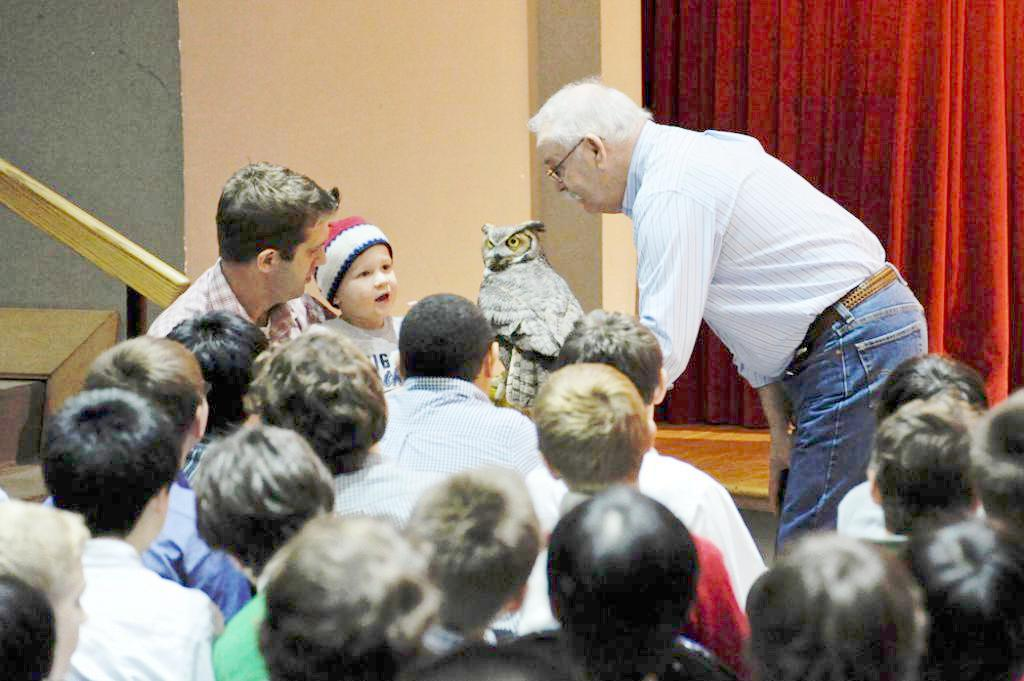Owl: (477, 223, 587, 418)
